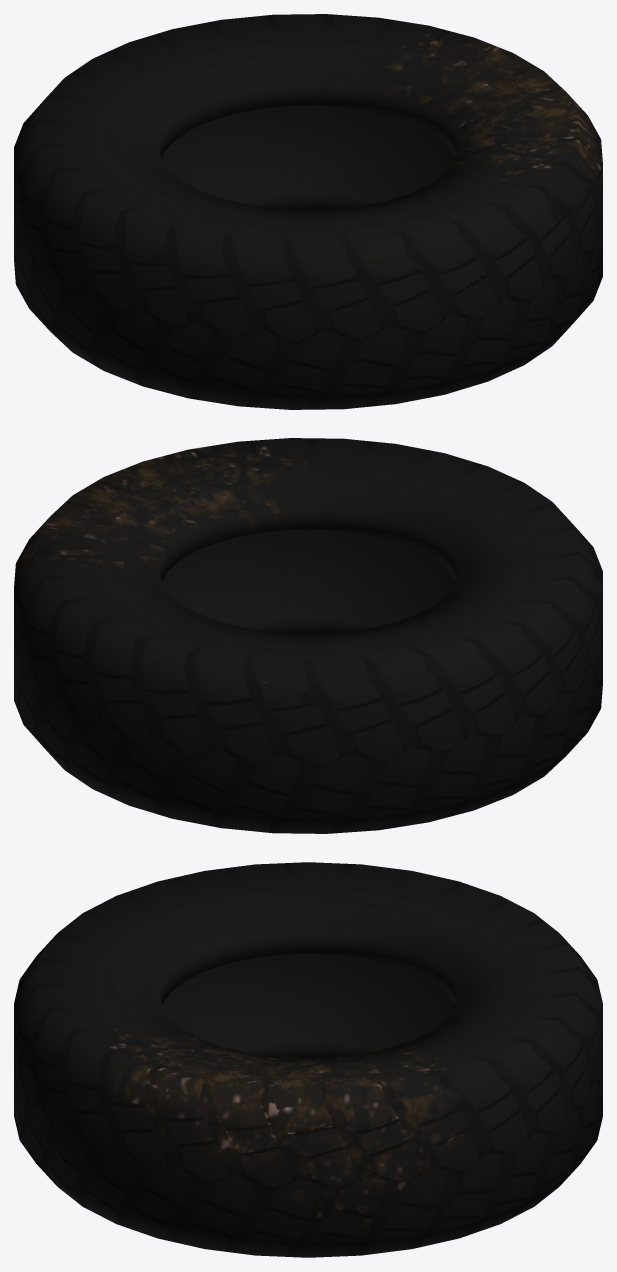
File: weel_1.fbx
3 renders of one model, top to bottom at view 1: azimuth 30°, elevation 25°; view 2: azimuth 150°, elevation 25°; view 3: azimuth 270°, elevation 25°, orthographic.
Visible parts, largest first — view 1: wheel_1_LOD0; view 2: wheel_1_LOD0; view 3: wheel_1_LOD0.
Boxes of the visible parts, bbox=[...] form: wheel_1_LOD0: bbox=[14, 14, 602, 409]; wheel_1_LOD0: bbox=[14, 438, 602, 833]; wheel_1_LOD0: bbox=[14, 862, 602, 1257].
Size of what is drawn, in the model's own units: 62.59 by 19.48 by 62.59.
